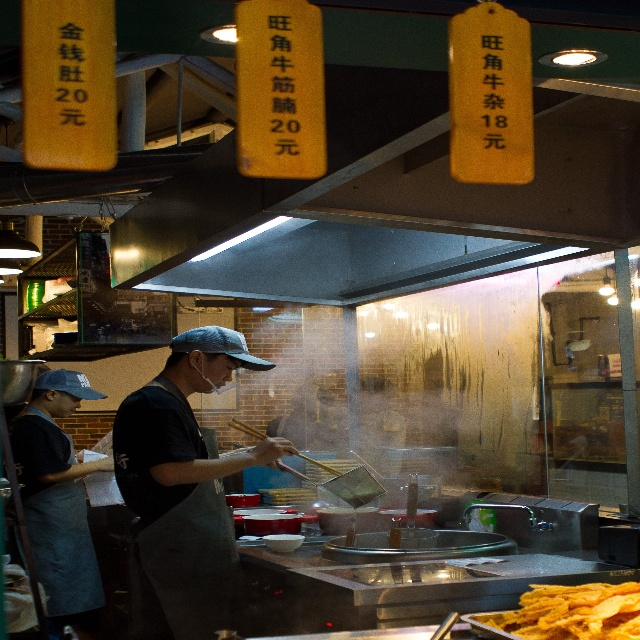Mascara: (187, 352, 239, 396)
Sin_guantes: (251, 435, 299, 466)
